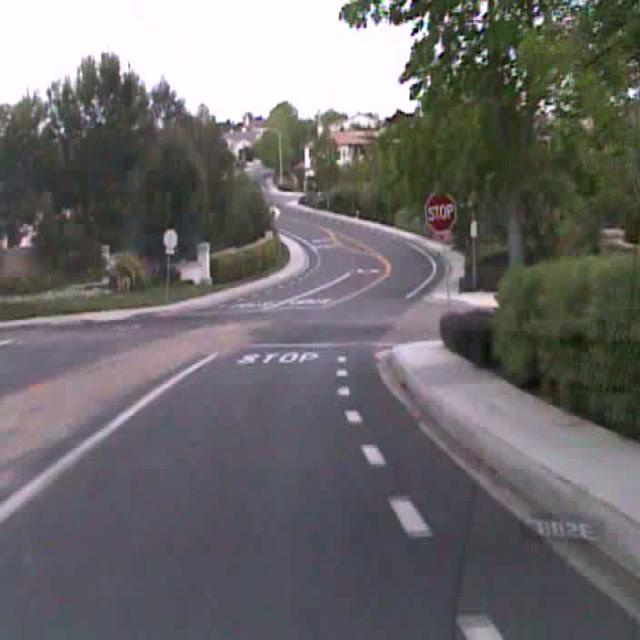stop_sign: (424, 188, 456, 235)
